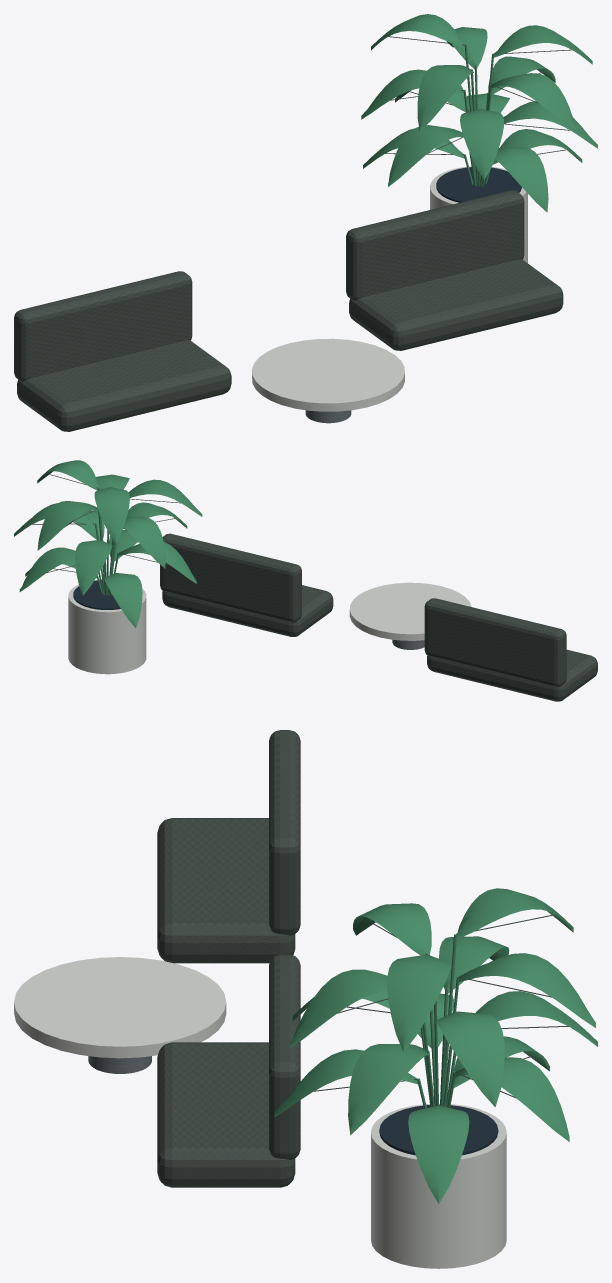
The model's file is contact.glb.
3 views of the same model, one above another, from view 1: azimuth 30°, elevation 25°; view 2: azimuth 150°, elevation 25°; view 3: azimuth 270°, elevation 25° (orthographic). The views are drawn at different scales.
Parts seen in each view (by area): view 1: Static_contact; view 2: Static_contact; view 3: Static_contact.
Part boxes in pixels (bbox=[...]): Static_contact: bbox=[14, 14, 597, 431]; Static_contact: bbox=[14, 460, 597, 701]; Static_contact: bbox=[14, 730, 597, 1268].
Bounding box in the file's own units: 9.35 × 3.38 × 5.5.
Materials: 5 (2 with a texture image).
